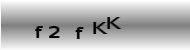2: (48, 24, 61, 39)
K: (106, 16, 123, 30), (92, 20, 107, 35)
f: (33, 23, 45, 39), (73, 25, 84, 40)
